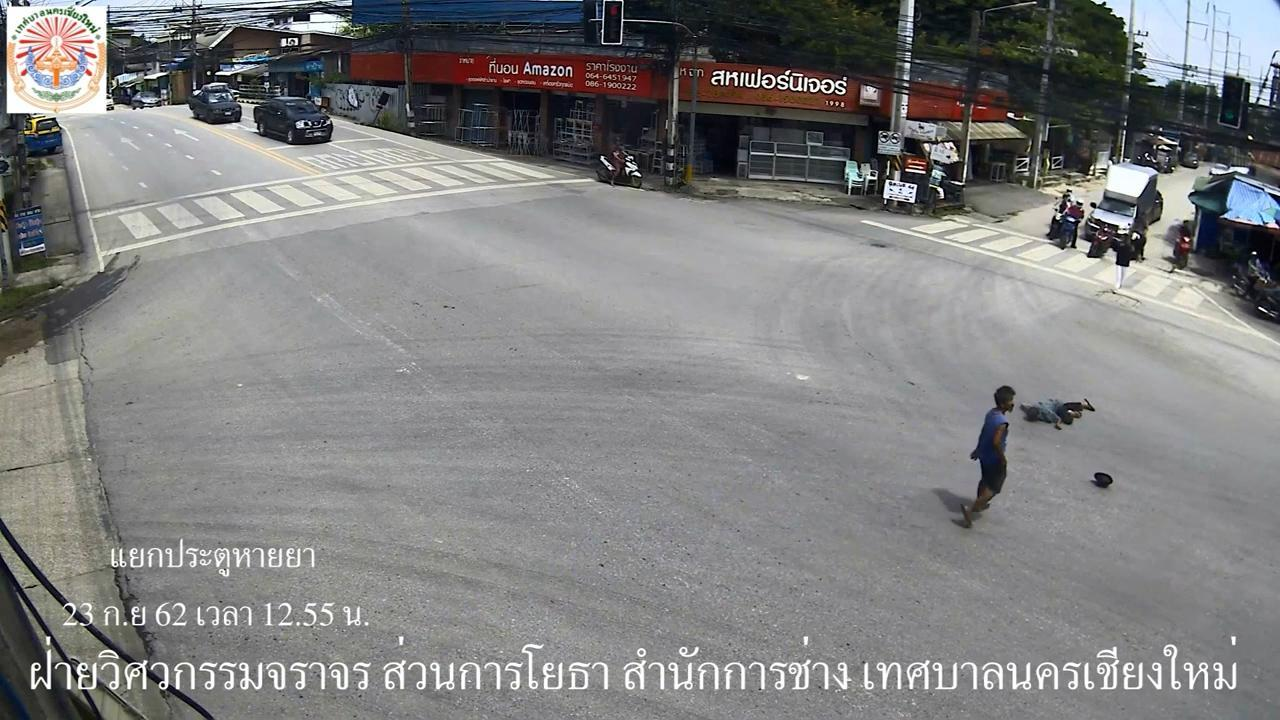accident: (1017, 389, 1100, 437)
